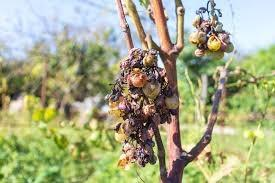Grape Rotten: (106, 48, 179, 170), (189, 1, 235, 60)
